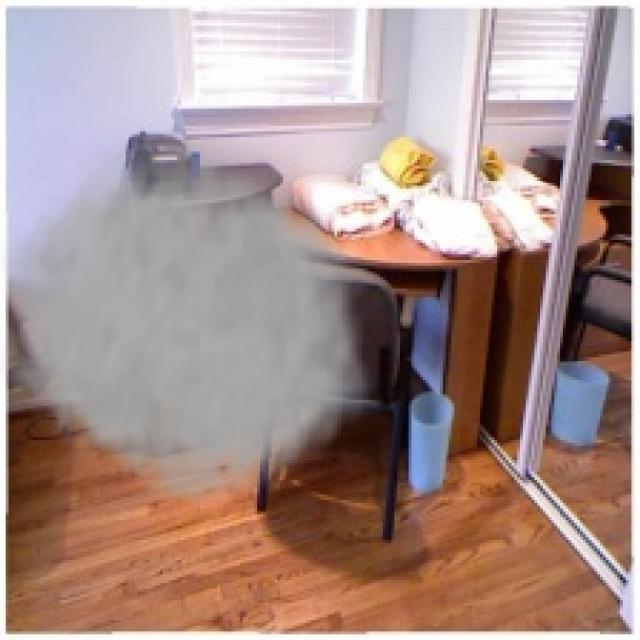smoke: (0, 126, 386, 517)
